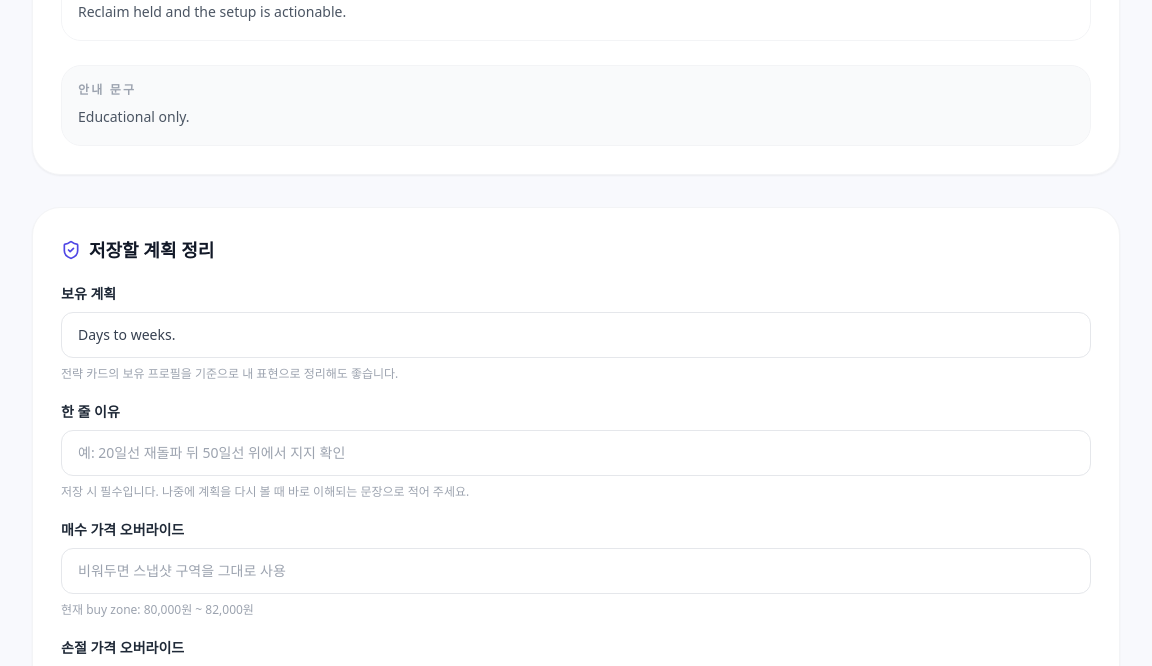
Test: PlannerReviewPage › saves a snapshot-first plan without sending a caller supplied symbol
This screenshot has width=1152, height=666.
(page scrolled)
Expected: the text "저장할 계획 정리" is shown, [61, 238, 214, 262]
Replace the text in the field with placeholder "예: 2주 동안 일봉 종가 기준으로 추적" with "2주 동안 종가 기준 추적" at (576, 334), box [61, 312, 1091, 358]
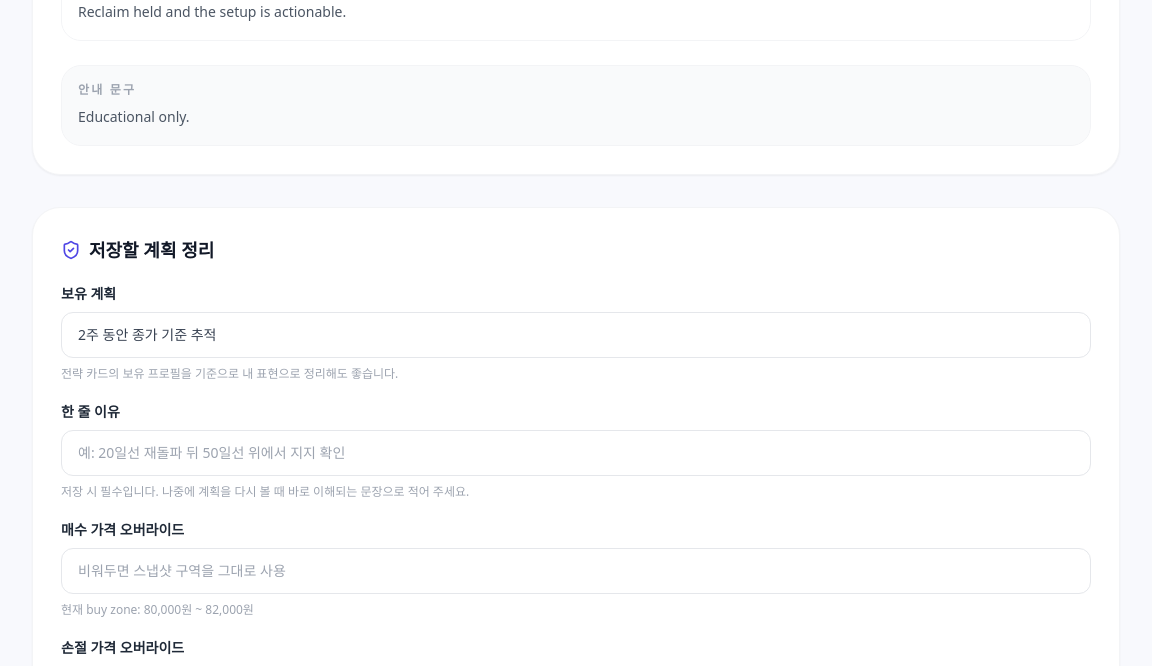
Type "Reclaim setup review" into the field with placeholder "예: 20일선 재돌파 뒤 50일선 위에서 지지 확인" at (576, 452), box [61, 430, 1091, 476]
(page scrolled)
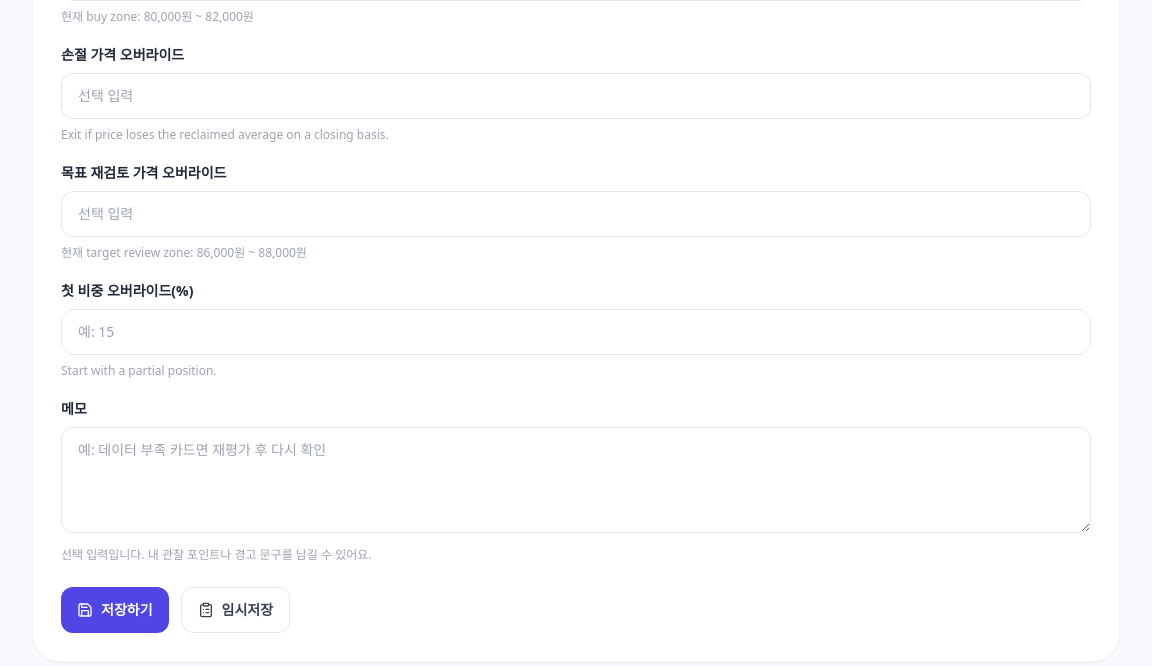
Click the button "저장하기" at (115, 610), box [61, 586, 168, 632]
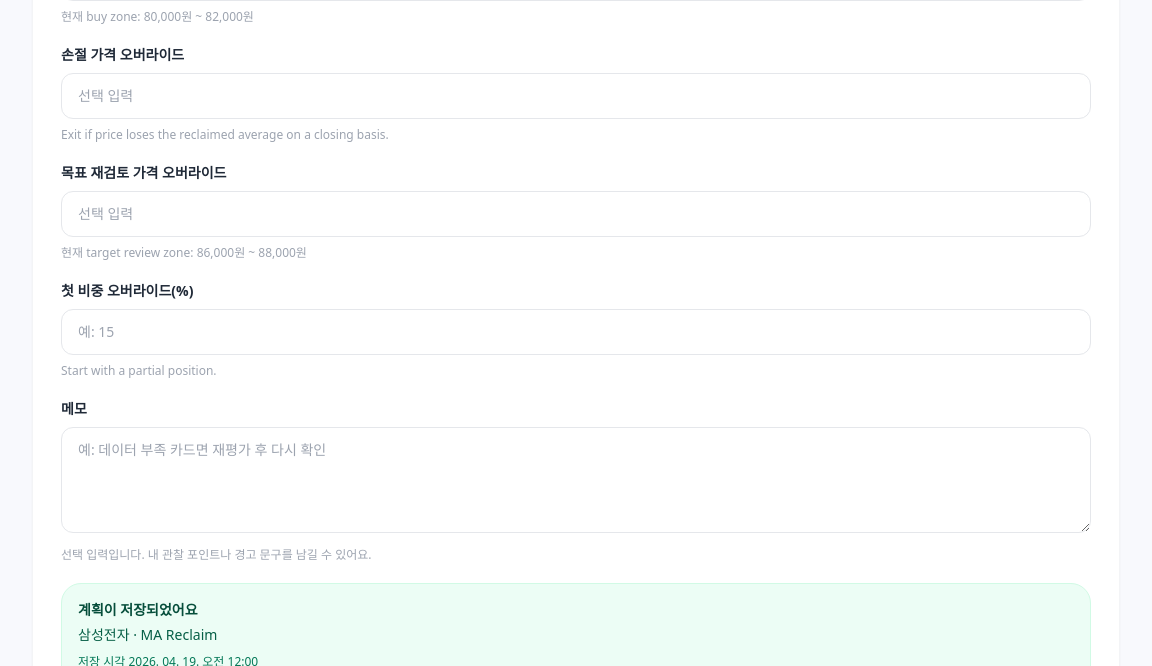
Now the text "계획이 저장되었어요" is shown, box [78, 600, 198, 618]
